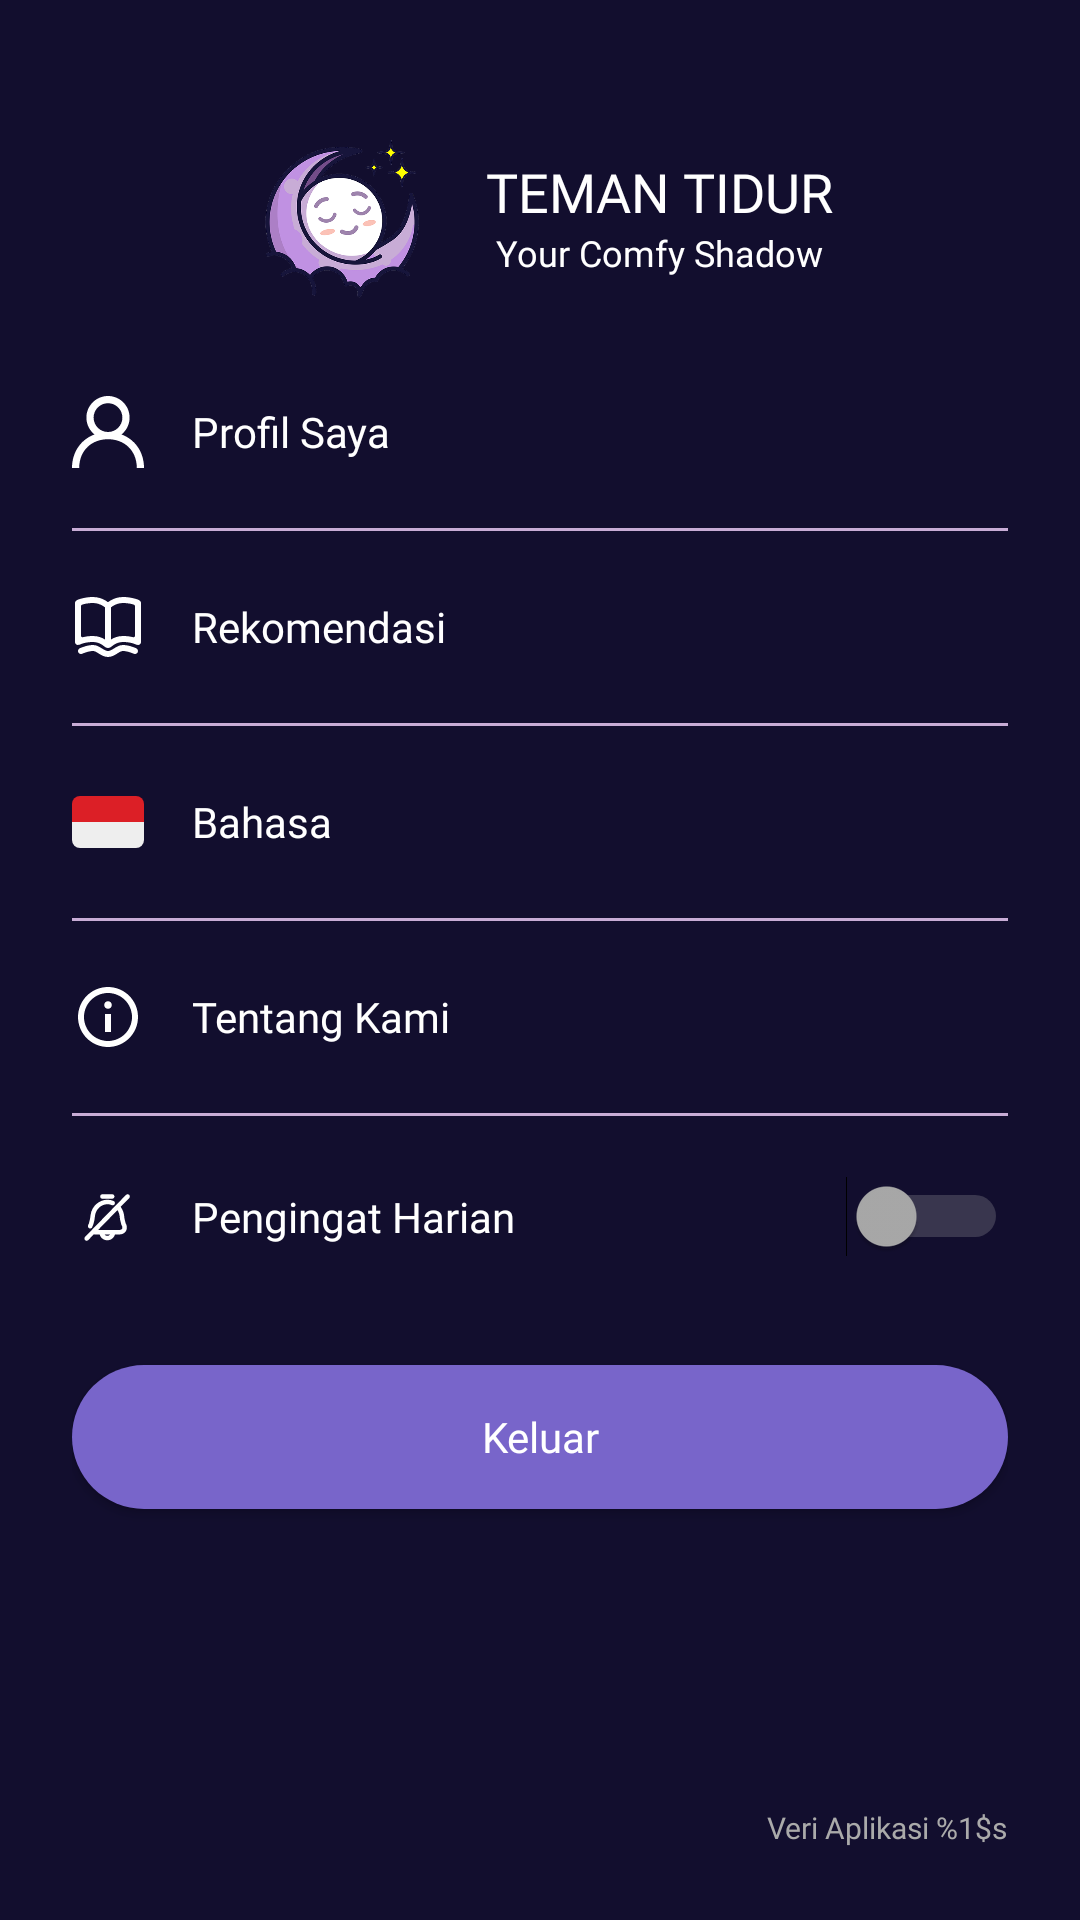

Screen size 1080px x 1920px. Icon name, then its center in pixels as [x,y]:
about: [108,1017]
book open: [108,627]
flag indonesian: [108,822]
notification slient: [107,1217]
profile: [108,432]
